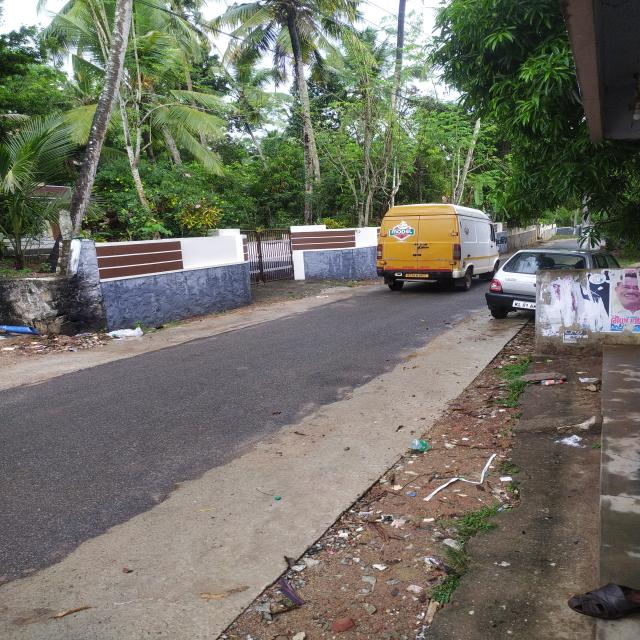Car: (485, 249, 618, 319)
Traveller: (377, 204, 505, 290)
